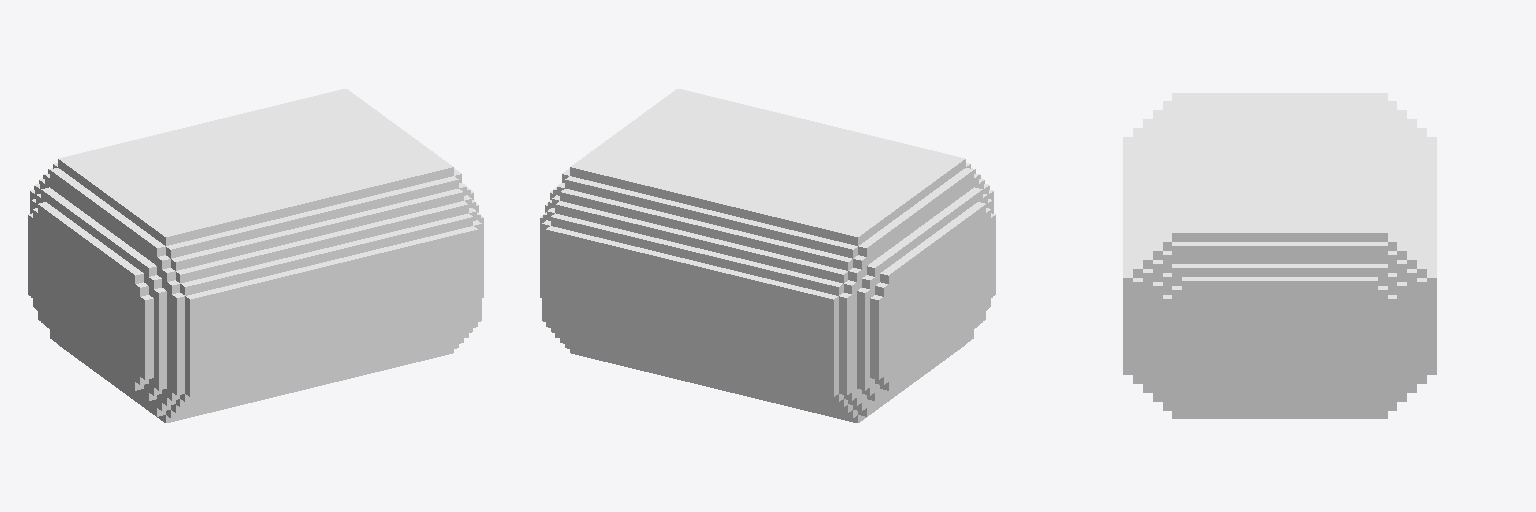
File: power_room_griffin_station_v1.obj
3 renders of one model, left to right at view 1: azimuth 30°, elevation 25°; view 2: azimuth 150°, elevation 25°; view 3: azimuth 270°, elevation 25°, orthographic.
Parts seen in each view (by area): view 1: object 1; view 2: object 1; view 3: object 1.
Part boxes in pixels (left/top/right/bottom): object 1: left=28, top=89, right=483, bottom=422; object 1: left=540, top=89, right=995, bottom=422; object 1: left=1123, top=93, right=1436, bottom=418.
Size of the model in its own units: 4 by 2.1 by 3.2.